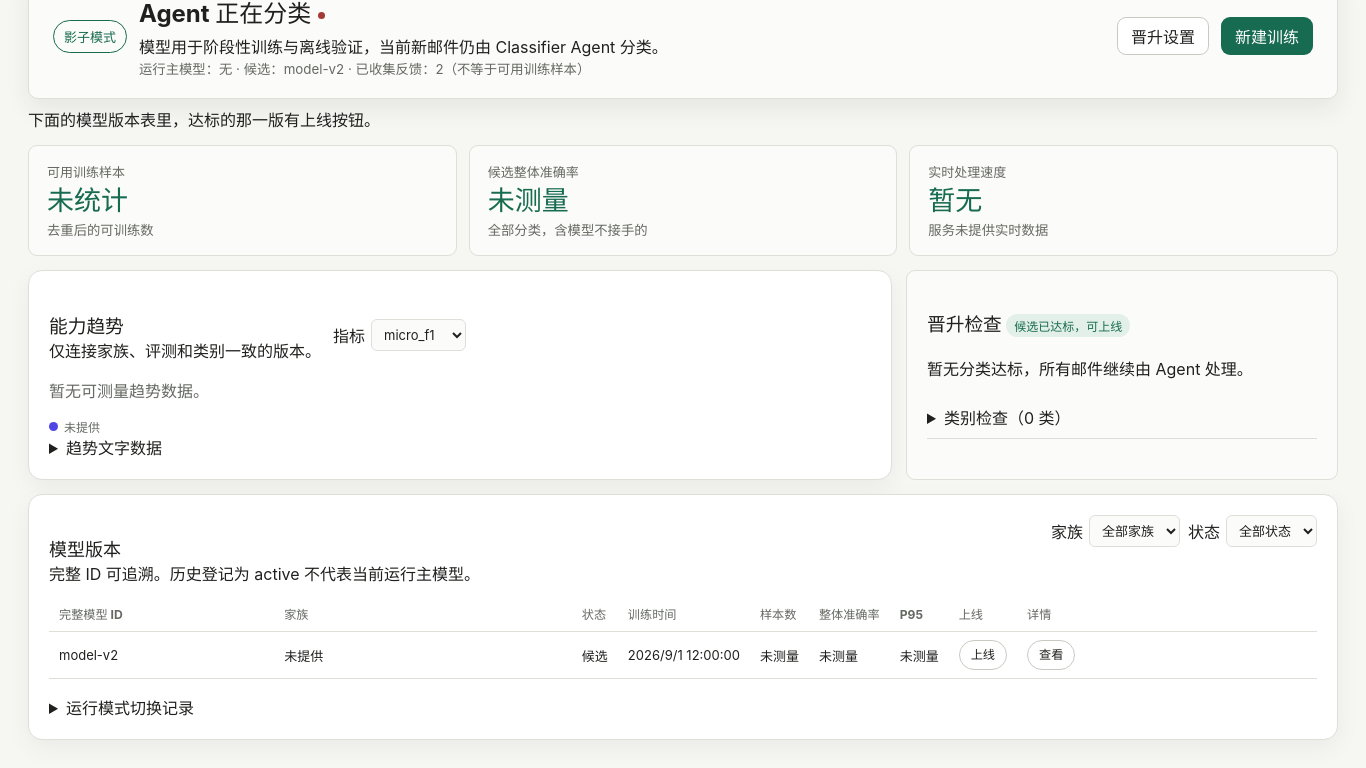
Scenario: keeps mode server-controlled and retains ready marker on rejected switch
(page scrolled)
Click the button "上线": [983, 655] box [959, 640, 1007, 670]
(page scrolled)
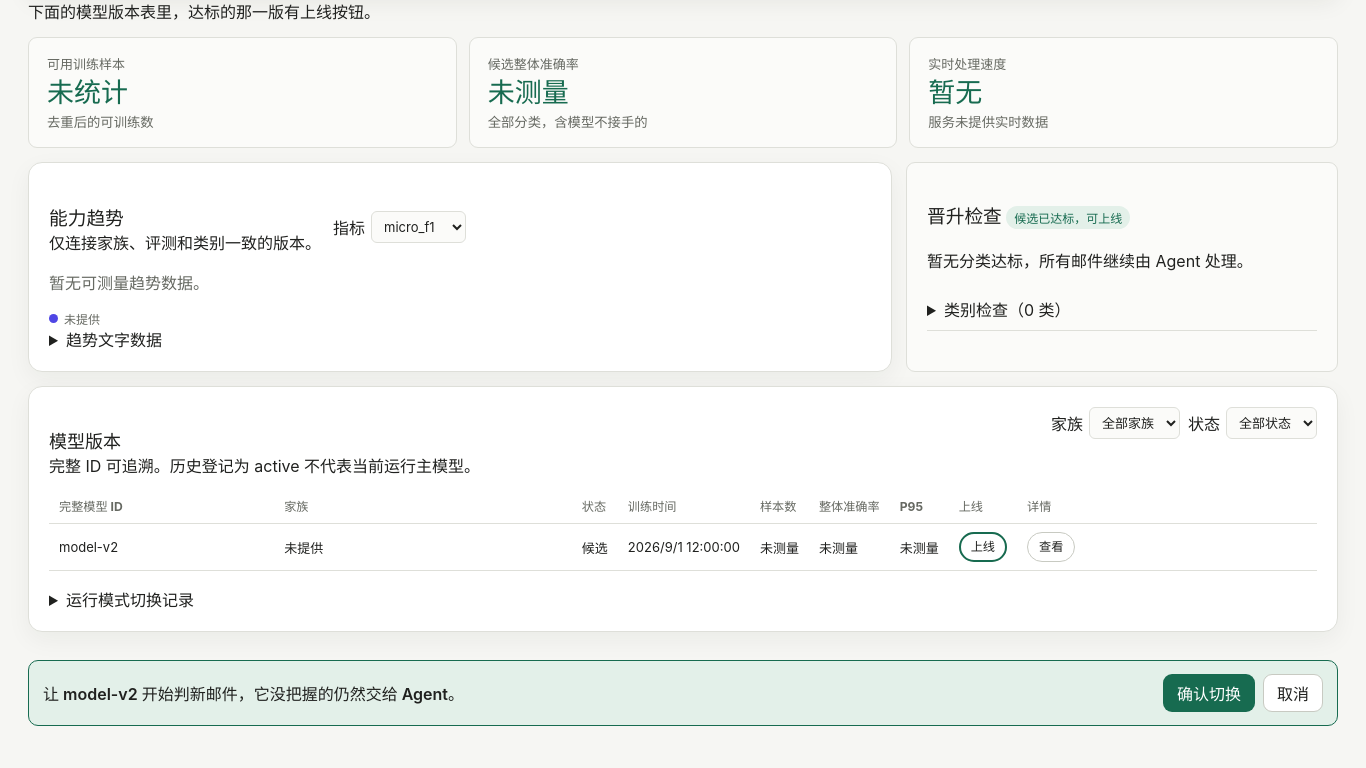
Click the button "确认切换": [1209, 693] box [1163, 674, 1255, 712]
(page scrolled)
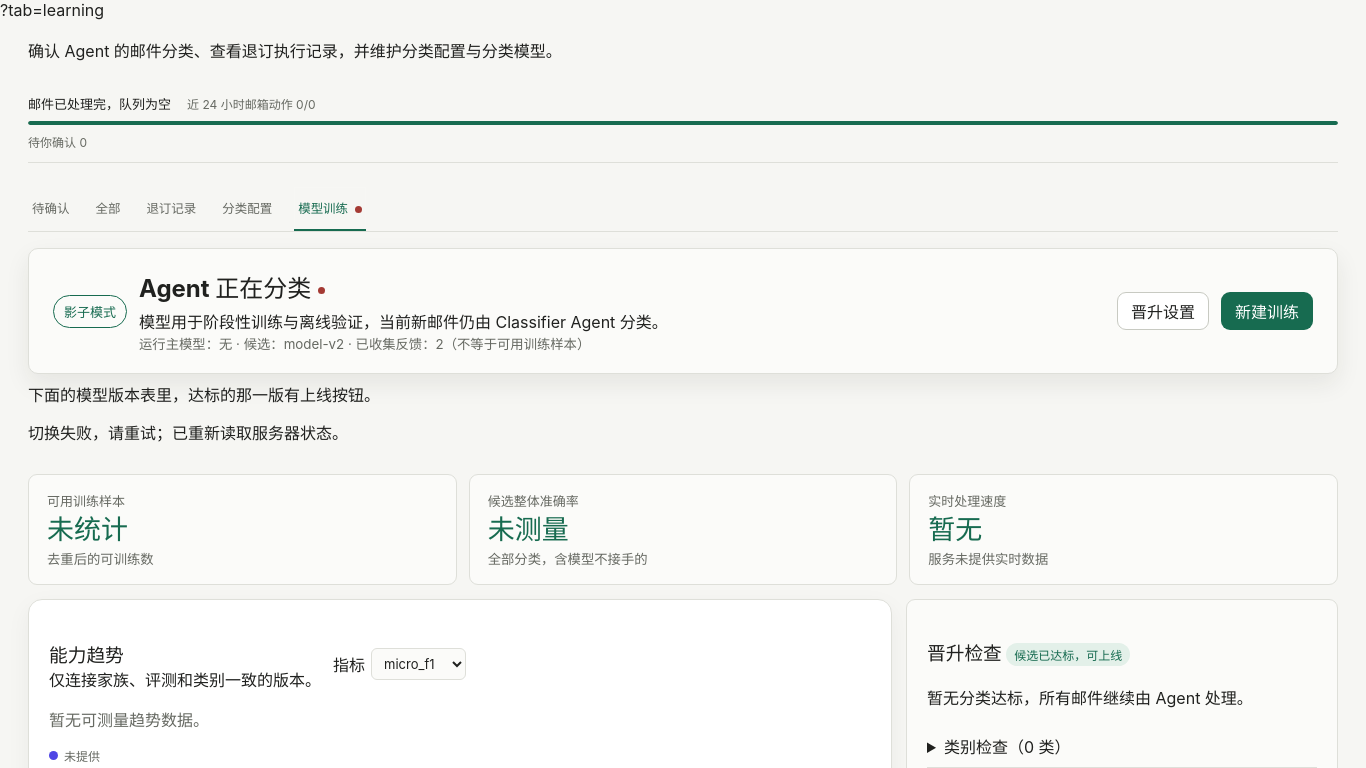
Expected: the tab "模型训练" is shown, [294, 187, 366, 231]
Expected: the message shows "切换失败", [28, 423, 348, 443]
